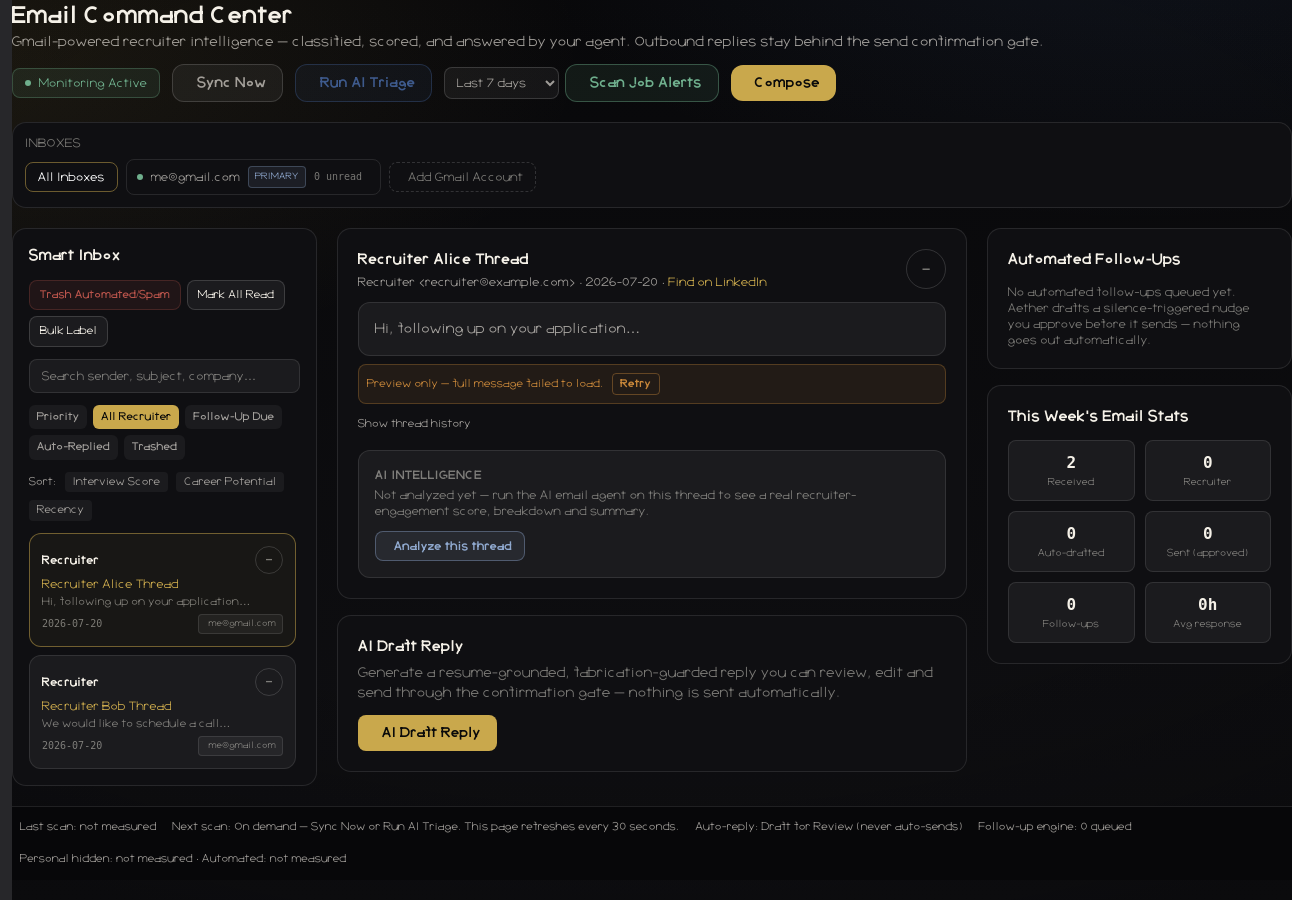
MF-1: email detail panel honest full-body loading › never auto-retries a failed fetch silently on its own — only the explicit Retry click re-fetches
The width and height of the screenshot is (1292, 900).
Expected: the message "Preview only — full message failed to load. Retry" is shown, 358,364 -> 946,404
Click the 2nd button with test id "email-card": {"x": 162, "y": 712} 29,654 -> 296,768
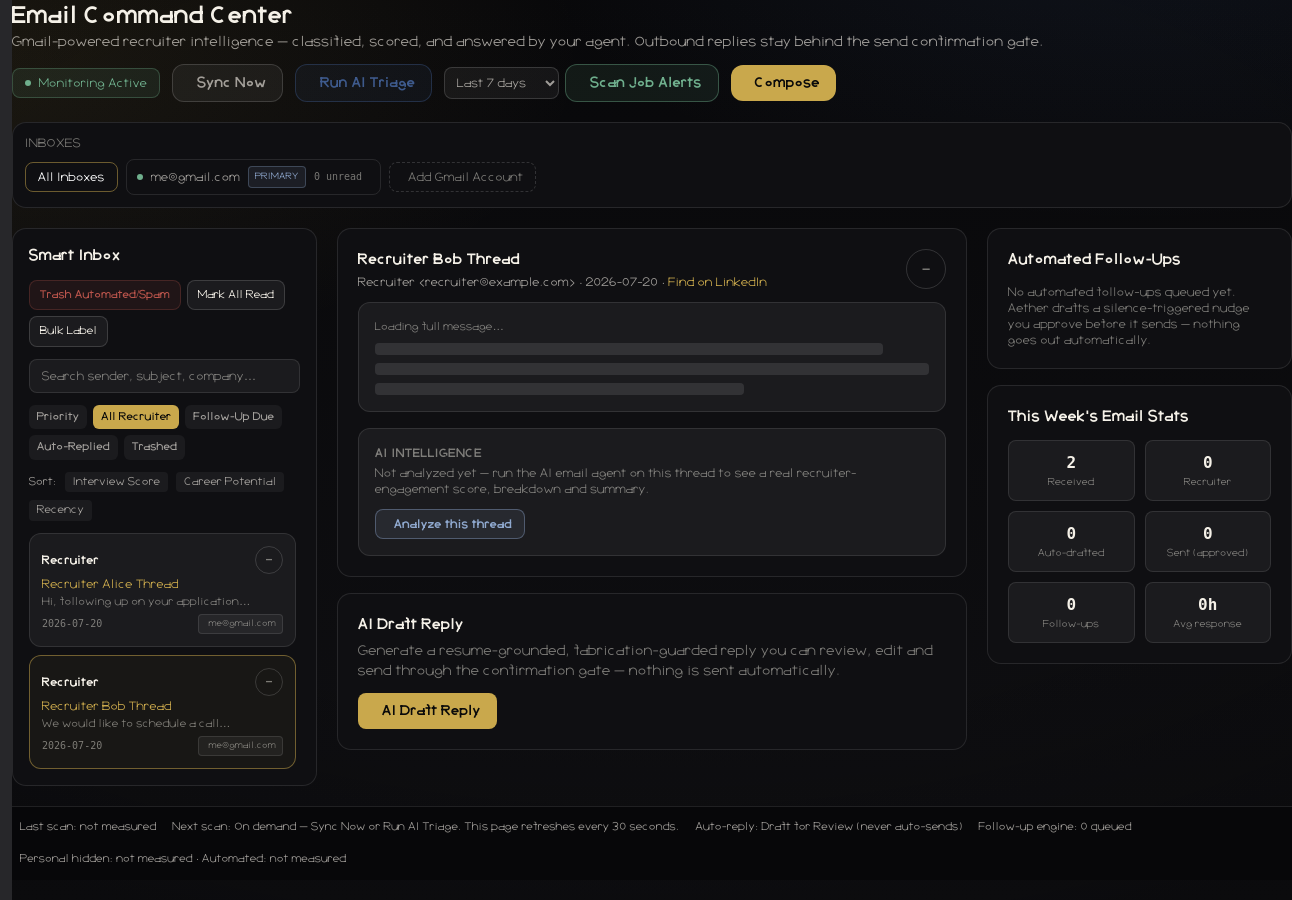
Click the 1st button with test id "email-card": {"x": 162, "y": 590} 29,532 -> 296,646
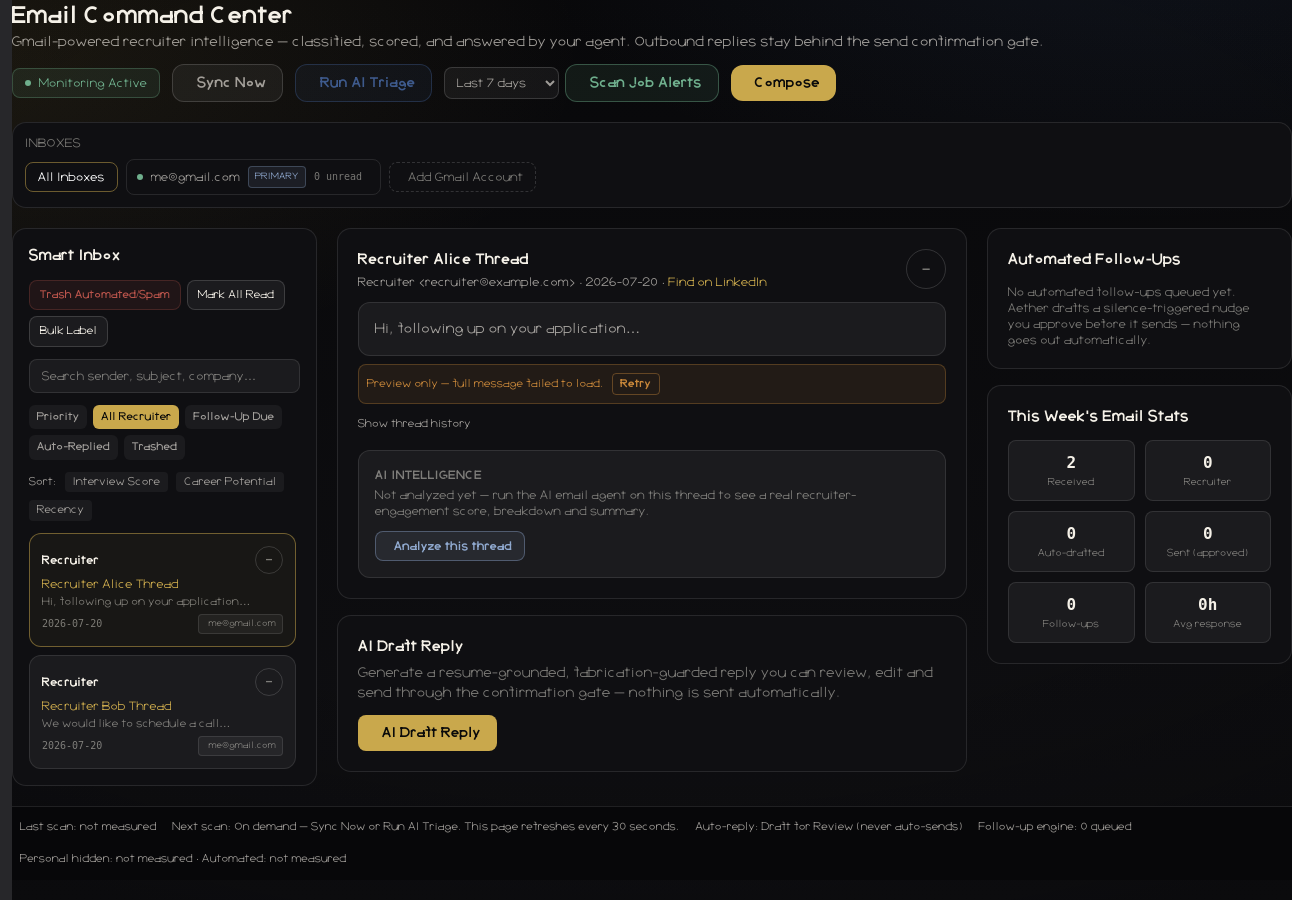
Expected: the message "Preview only — full message failed to load. Retry" is shown, 358,364 -> 946,404
